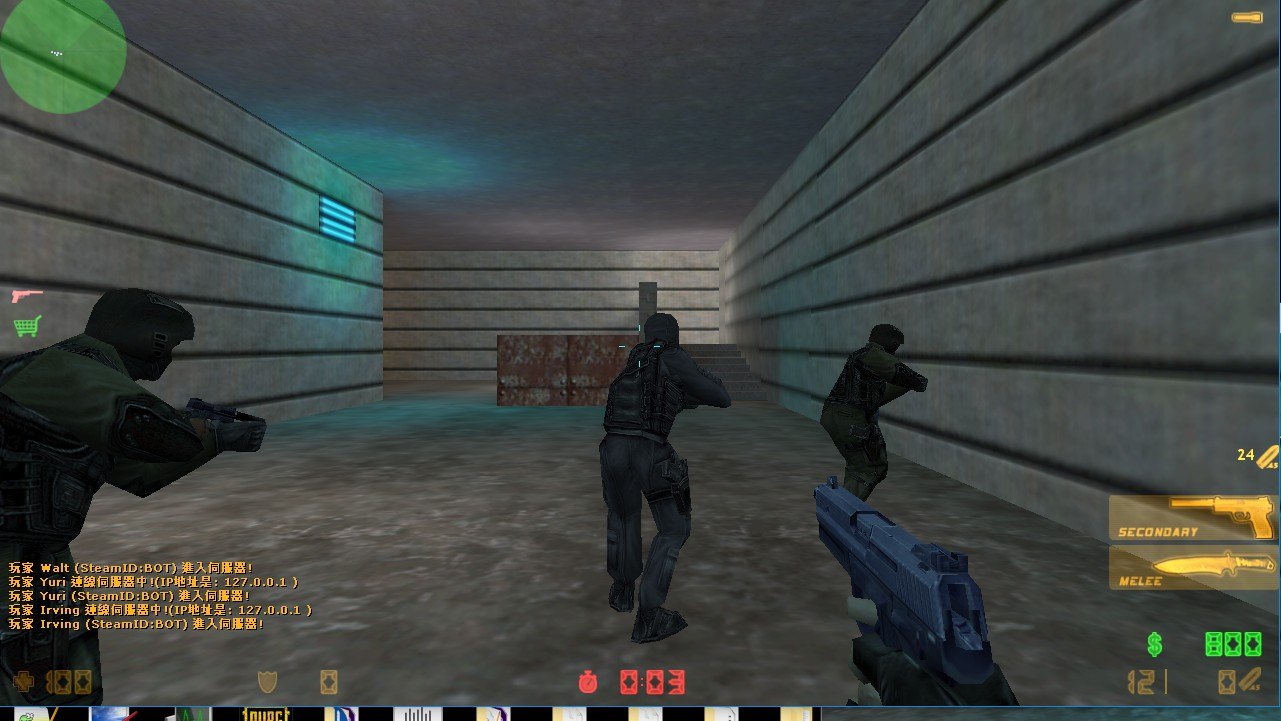person: (1, 284, 252, 707), (596, 319, 714, 638), (830, 304, 929, 493)
